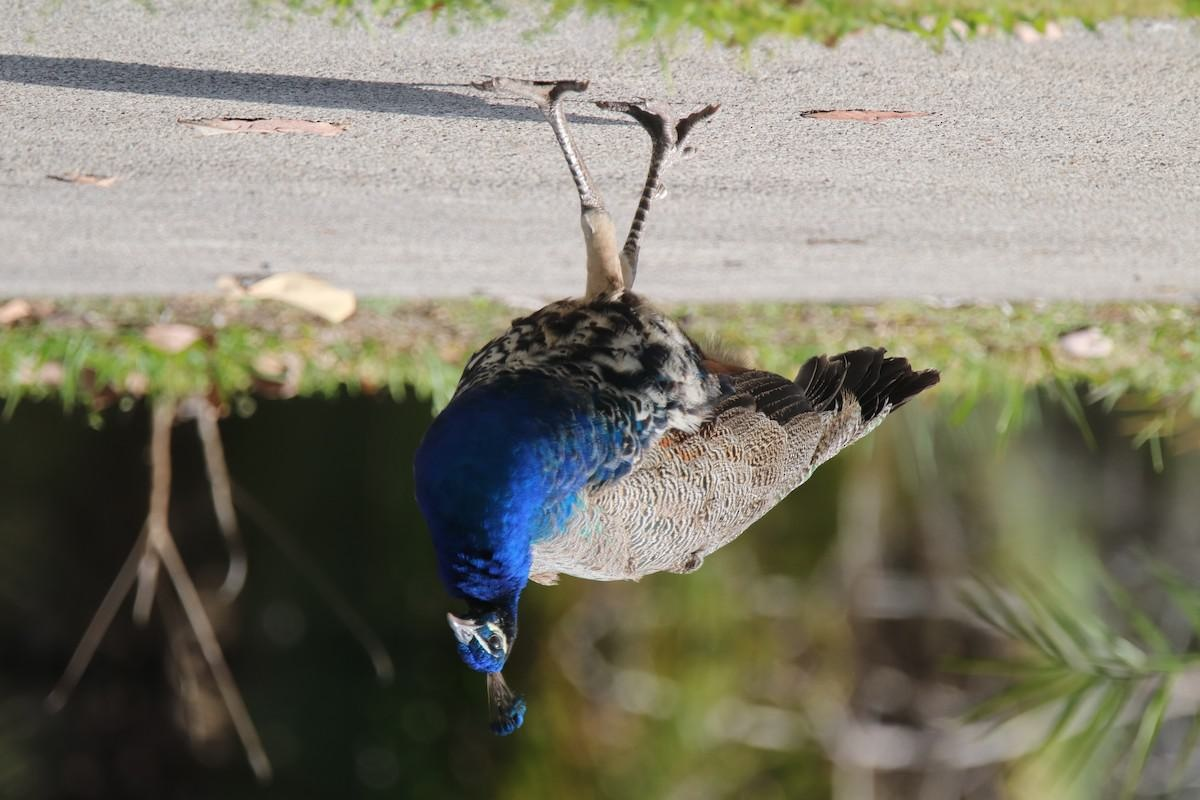peacock: (319, 83, 979, 776)
